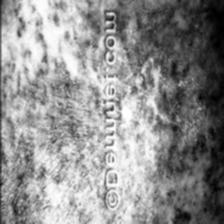Non-Cancerous Skin Condition: (125, 0, 224, 224), (0, 64, 98, 224)
